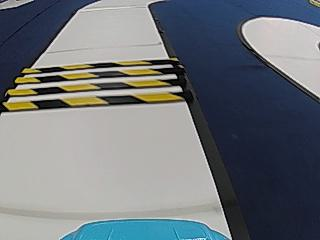bump: (2, 53, 185, 117)
